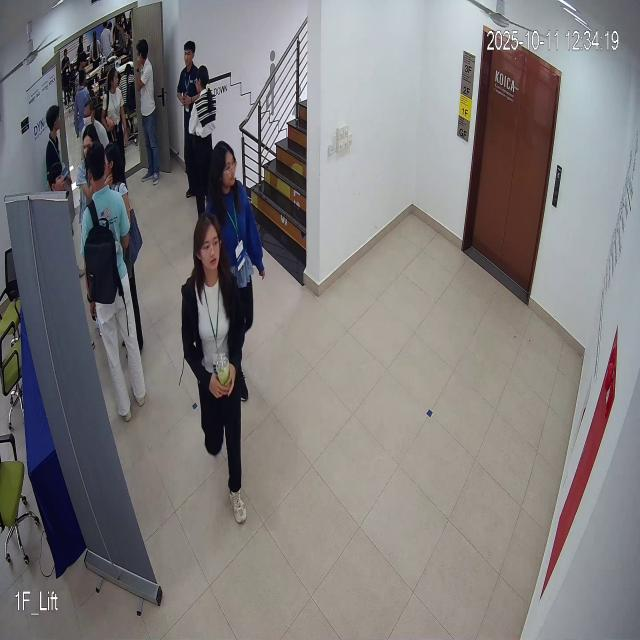face: (191, 212, 226, 286), (204, 136, 240, 199)
